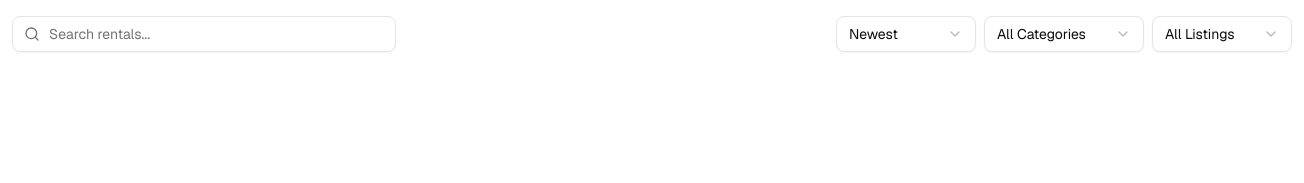
Test case: GarageFiltersClient › Display Name Functions › should format category display name with emoji
The width and height of the screenshot is (1304, 183).
Click the dropdown "All Categories": point(1064, 34) [984,16,1144,52]
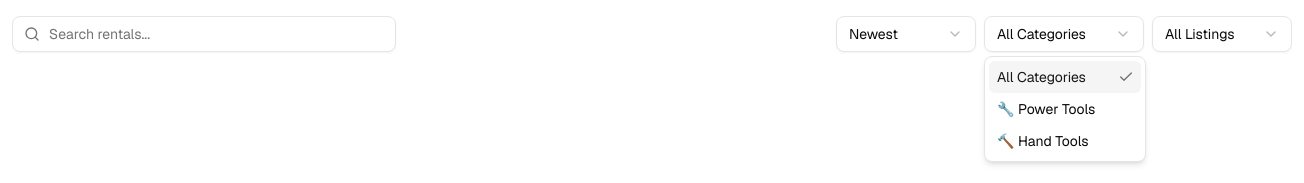
Expected: the text "🔧 Power Tools" is shown, [997,99,1095,119]
Expected: the text "🔨 Hand Tools" is shown, [997,131,1089,151]
